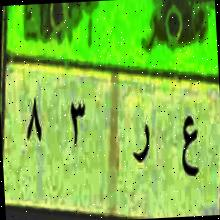3: (64, 96, 89, 151)
8: (24, 96, 42, 147)
ain: (174, 101, 202, 189)
raa: (128, 116, 154, 175)
